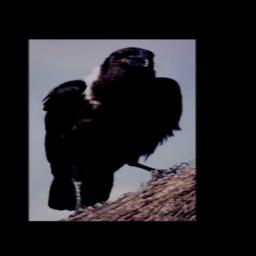Crow: (40, 46, 185, 216)
